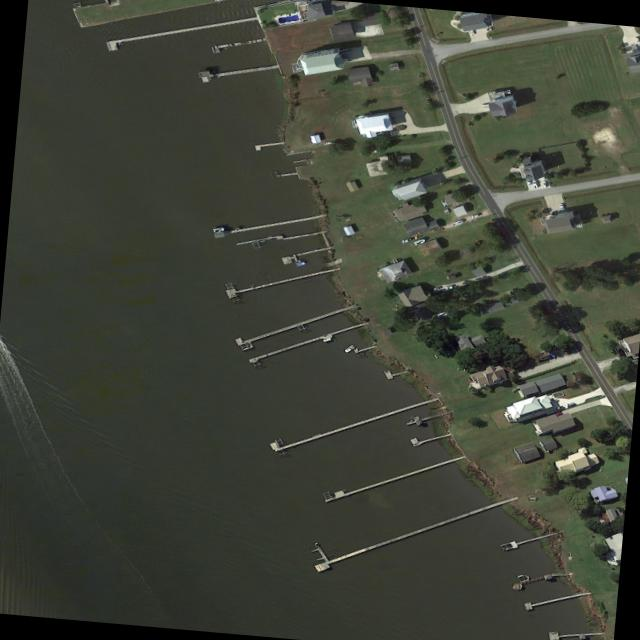ship: (410, 237, 425, 246), (342, 344, 355, 353), (450, 218, 463, 226), (434, 311, 447, 318), (210, 227, 224, 232), (439, 198, 446, 207), (293, 261, 304, 266), (321, 337, 330, 342), (321, 141, 331, 145), (343, 218, 349, 222), (213, 0, 222, 1)
small-vehicle: (551, 405, 563, 411), (399, 237, 411, 243), (557, 202, 564, 211), (564, 401, 574, 407), (443, 285, 453, 290), (469, 213, 478, 218), (633, 36, 639, 43), (524, 179, 530, 186), (531, 180, 536, 188), (431, 286, 440, 290), (541, 180, 545, 188)
